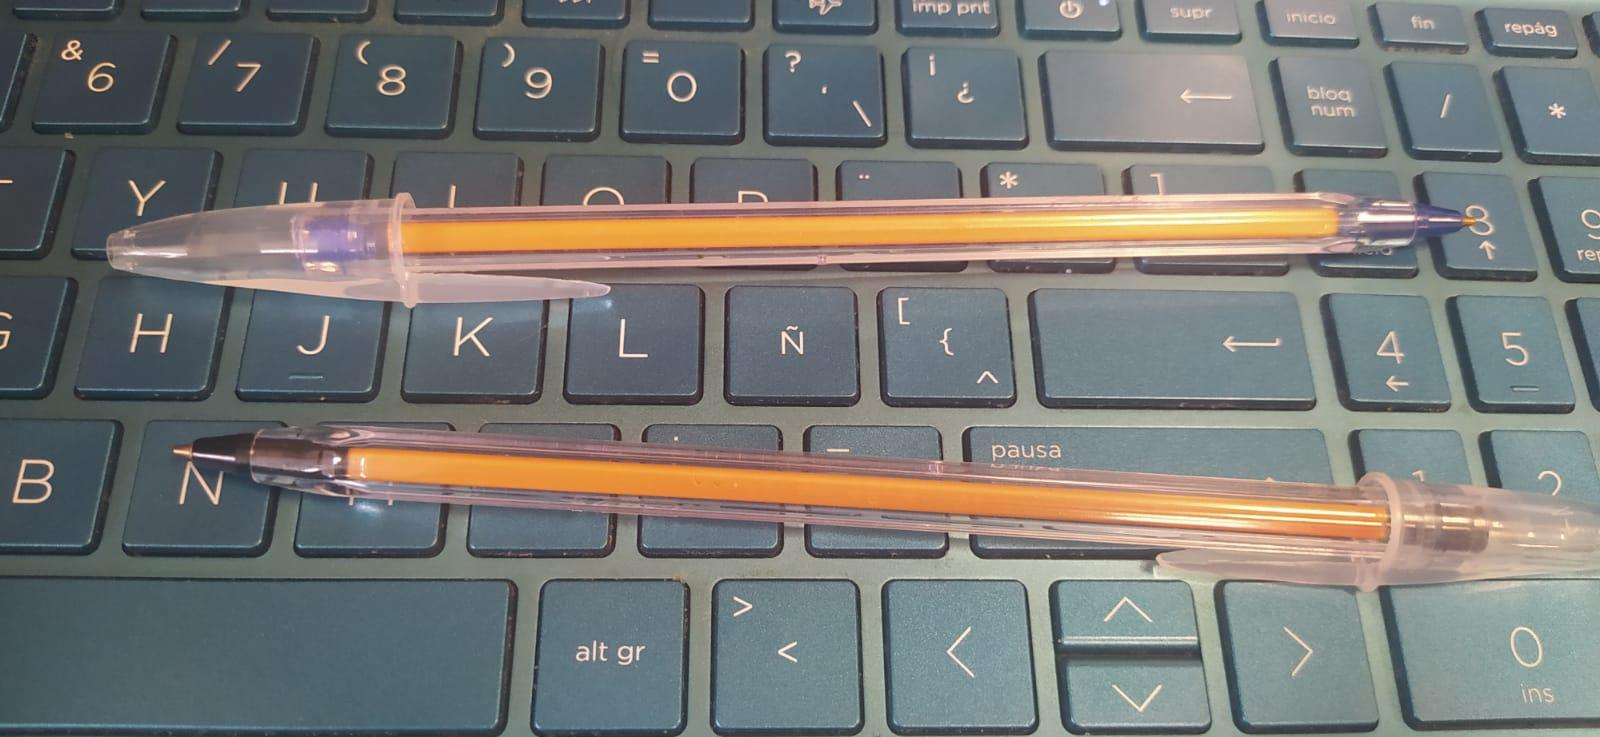pen: (167, 417, 1600, 593), (99, 189, 1483, 307)
